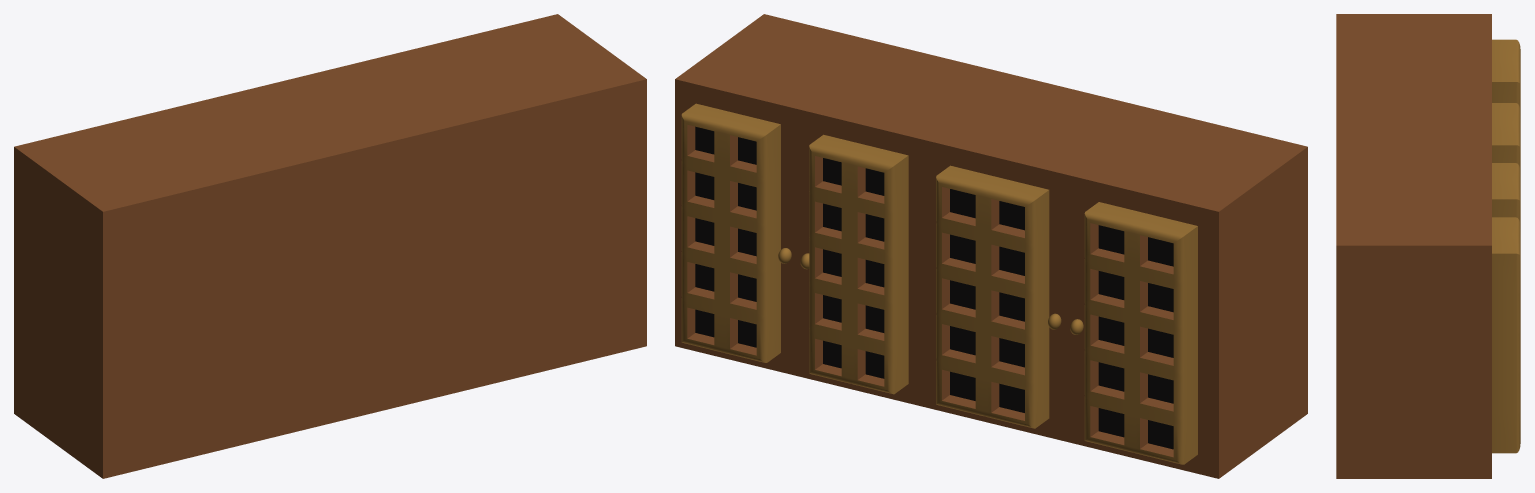
File: armario_corrigido.fbx
3 renders of one model, left to right at view 1: azimuth 30°, elevation 25°; view 2: azimuth 150°, elevation 25°; view 3: azimuth 270°, elevation 25°, orthographic. The views are drawn at different scales.
Visible parts, largest first — view 1: cozinha_armario; view 2: cozinha_armario; view 3: cozinha_armario.
Boxes of the visible parts, left/top/right/bottom form: cozinha_armario: left=14, top=14, right=646, bottom=478; cozinha_armario: left=675, top=14, right=1307, bottom=478; cozinha_armario: left=1336, top=14, right=1520, bottom=478.
Bounding box in the file's own units: 157 × 73.78 × 52.78.
